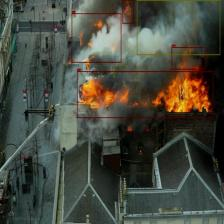fire: (77, 71, 213, 118), (71, 14, 121, 62), (172, 47, 205, 69), (122, 0, 133, 23)
smoke: (137, 0, 220, 55)
